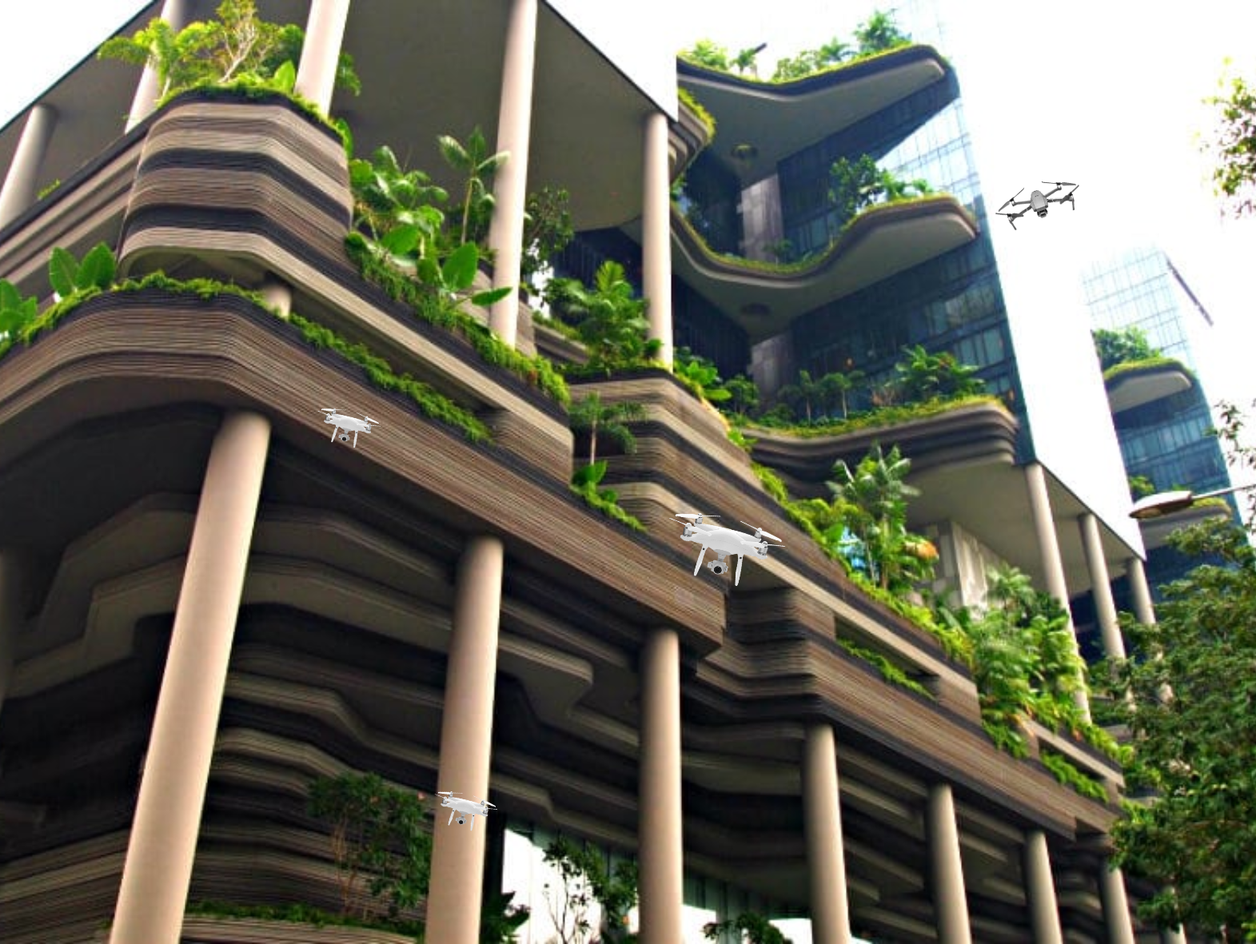drone_other: (669, 512, 786, 587), (993, 179, 1080, 232), (317, 405, 381, 450)
